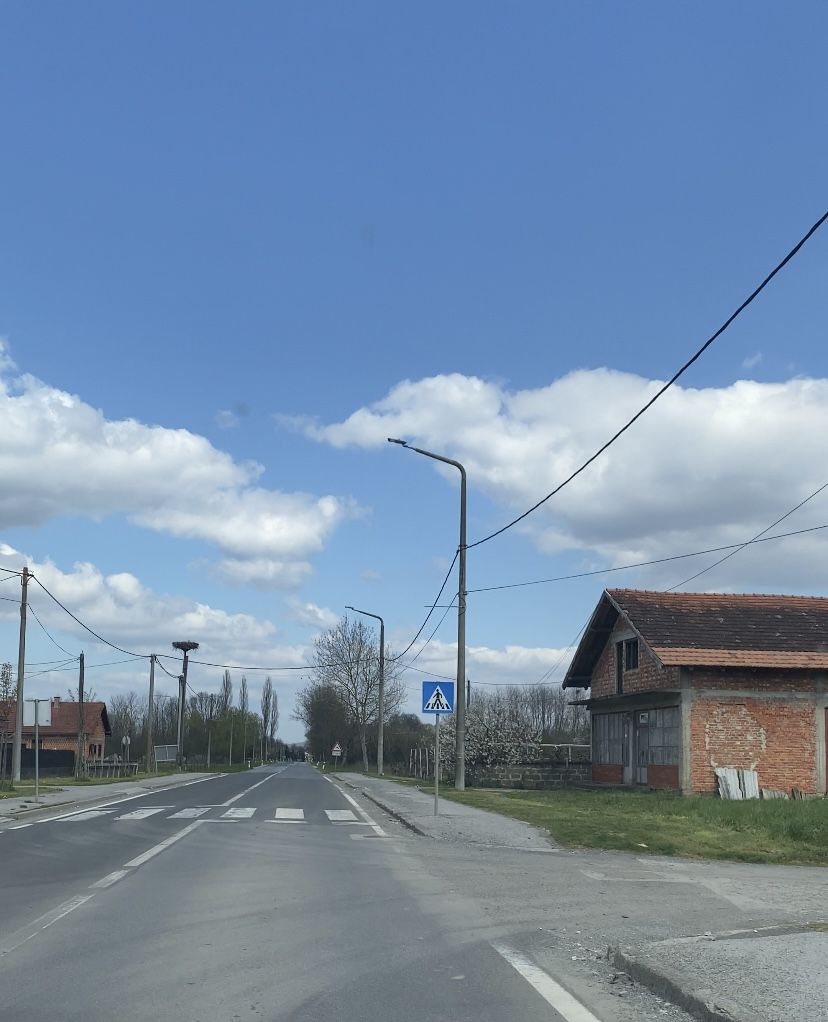Pješački prijelaz: (422, 681, 455, 714)
